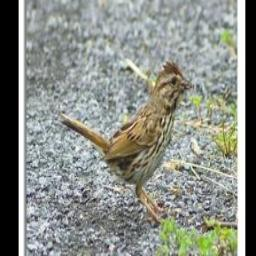Sparrow: (58, 57, 198, 228)
